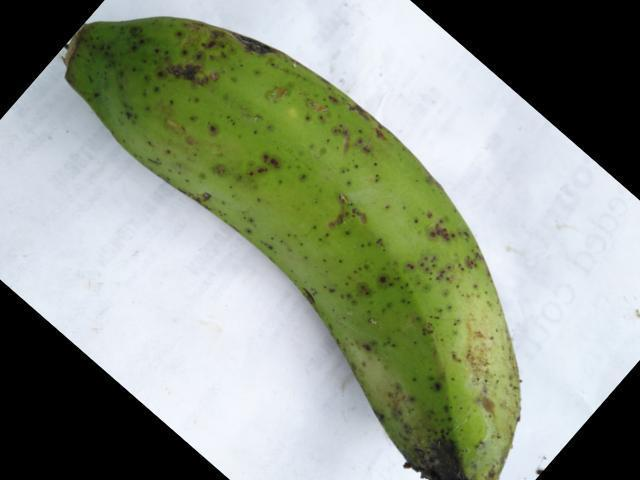unripe: (17, 6, 530, 479)
